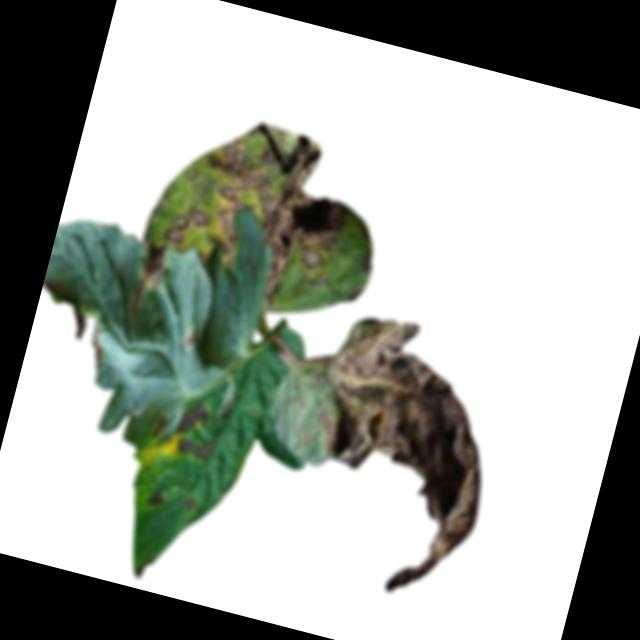Early_blight: (274, 306, 524, 614), (139, 101, 366, 323), (125, 241, 174, 322), (79, 317, 112, 373), (172, 397, 214, 439), (172, 432, 218, 466), (145, 489, 168, 510), (182, 495, 201, 519)
